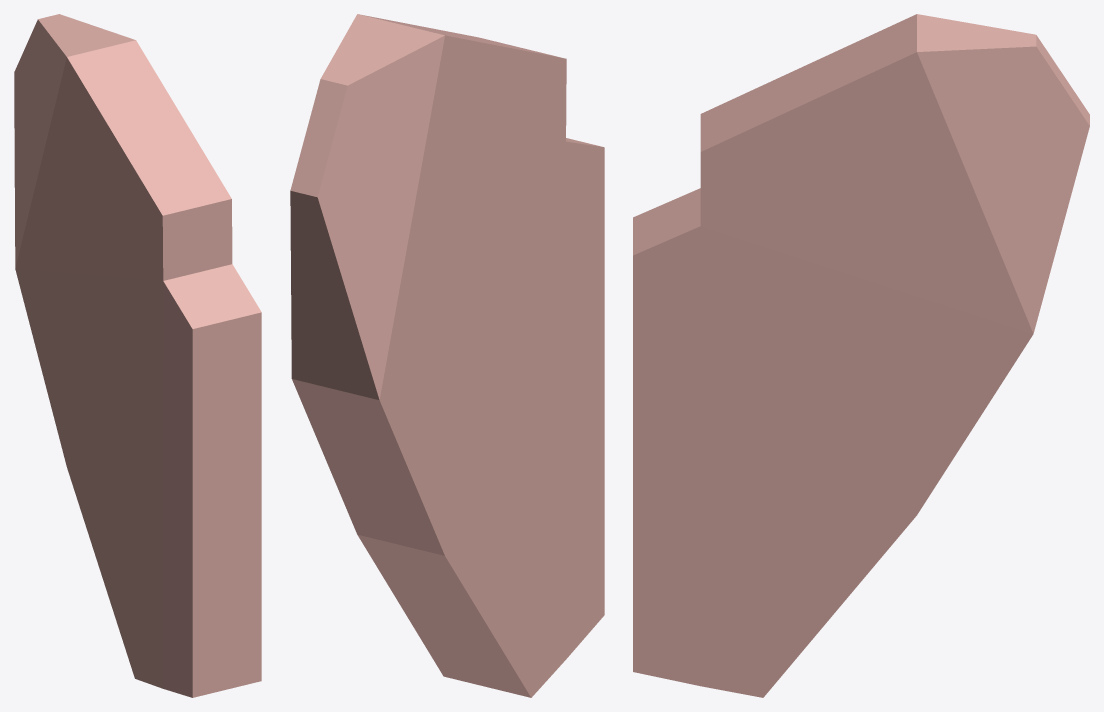
File: cb_front_skirt_2.gltf
The picture shows the model from 3 angles, left to right: view 1: azimuth 30°, elevation 25°; view 2: azimuth 150°, elevation 25°; view 3: azimuth 270°, elevation 25°; orthographic projection. The views are drawn at different scales.
Parts seen in each view (by area): view 1: Cube.003; view 2: Cube.003; view 3: Cube.003.
Part boxes in pixels (x1=…): Cube.003: x1=14, y1=14, x2=261, y2=697; Cube.003: x1=290, y1=14, x2=604, y2=697; Cube.003: x1=633, y1=14, x2=1089, y2=697.
Bounding box in the file's own units: 0.3089 × 2.42 × 1.55.
